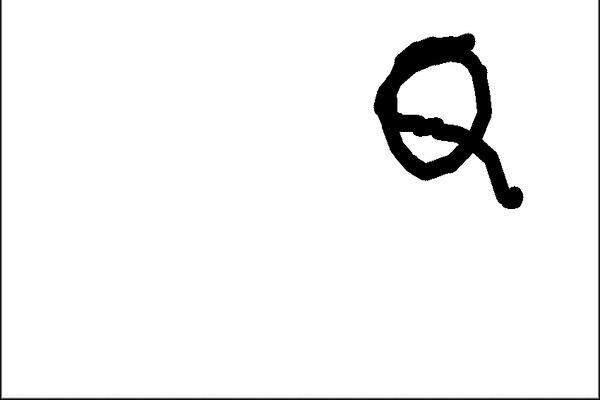Q: (355, 25, 532, 213)
